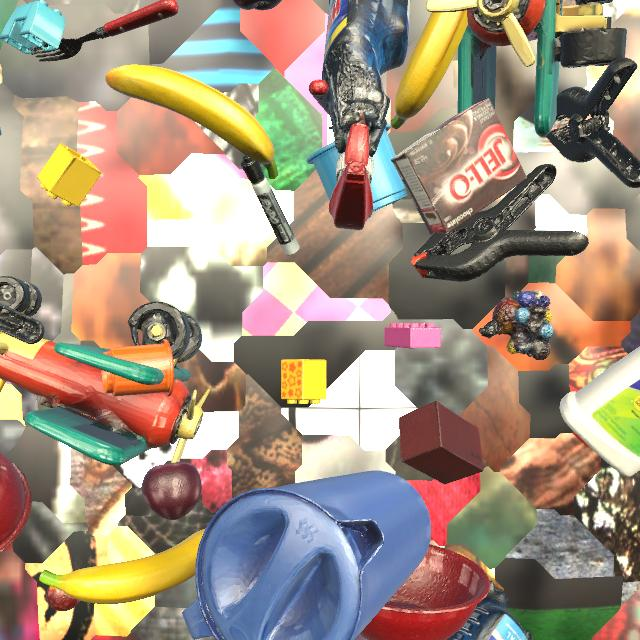ycb_008_pudding_box: (391, 98, 527, 235)
ycb_011_banana: (105, 65, 278, 179), (39, 529, 205, 604), (391, 10, 468, 129)
ycb_018_plum: (142, 462, 202, 520), (233, 0, 282, 10)
